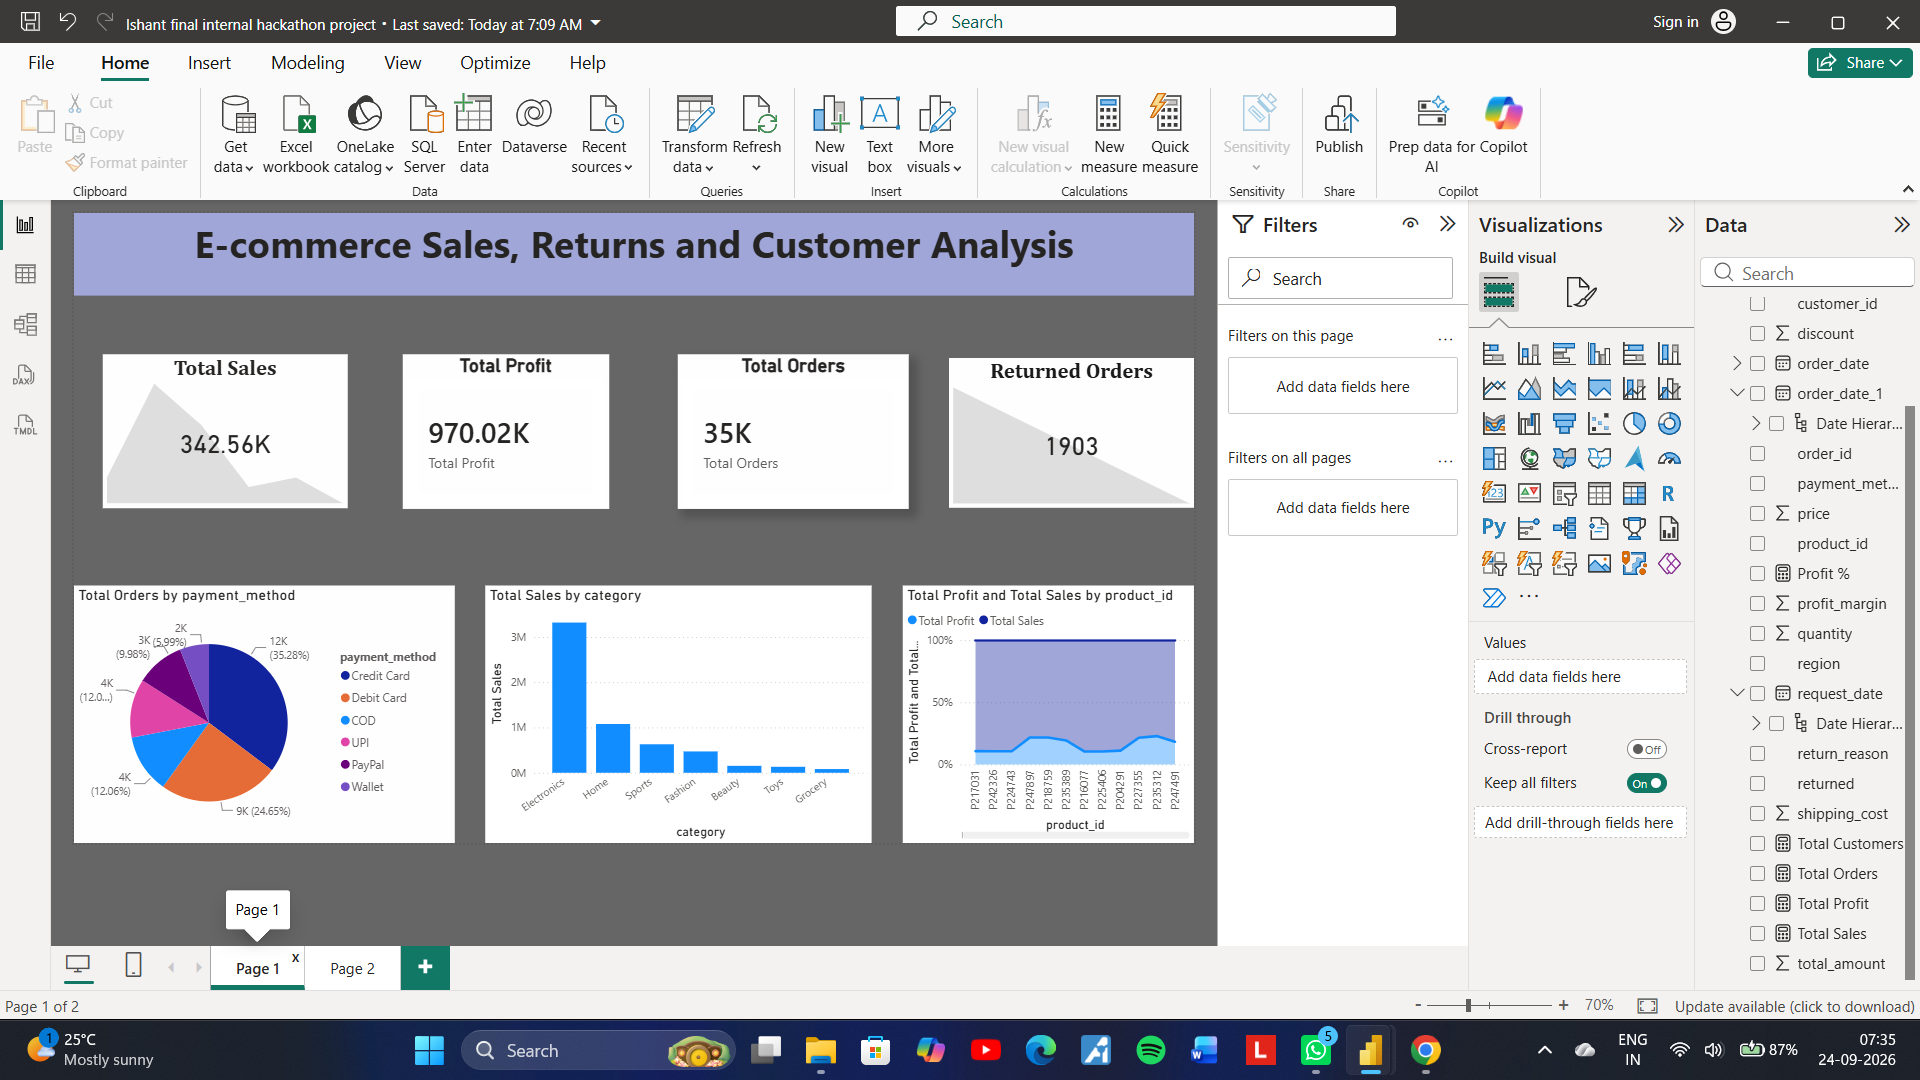

This screenshot's page, from the dashboard's own definition file:
{"tool":"powerbi","page":{"name":"Page 1","canvas":[1280,720],"ordinal":0},"visuals":[{"type":"kpi","title":"Total Sales","fields":{"Indicator":["Dataset.Total Sales"],"TrendLine":["Dataset.payment_method"]},"box":[32.9,161.9,279.9,175.6],"z":1},{"type":"kpi","title":"Returned Orders","fields":{"Indicator":["Dataset.Total Orders"],"TrendLine":["Dataset.returned"]},"box":[1000,165.7,280,171.4],"z":3},{"type":"pieChart","fields":{"Category":["Dataset.payment_method"],"Y":["Dataset.Total Orders"]},"box":[0,425.4,435,295],"z":5},{"type":"clusteredColumnChart","fields":{"Category":["Dataset.category"],"Y":["Dataset.Total Sales"]},"box":[469.3,425.4,441.9,295],"z":6},{"type":"hundredPercentStackedAreaChart","fields":{"Category":["Dataset.product_id"],"Y":["Dataset.Total Profit","Dataset.Total Sales"]},"box":[947.1,425.7,332.9,294.3],"z":7},{"type":"textbox","box":[0,0,1280.3,94.7],"z":8},{"type":"cardVisual","title":"Total Orders","fields":{"Data":["Dataset.Total Orders"]},"box":[690,161.4,264.3,177.1],"z":9},{"type":"cardVisual","title":"Total Profit","fields":{"Data":["Dataset.Total Profit"]},"box":[375.7,161.4,235.7,177.1],"z":10}]}

Visuals, with their boxes on the page's 1280x720 design canvas (x1, y1, x2, y2). These are canvas units, not pixel positions in the 1920x1080 screenshot, which may show the page scaled, cropped or inside an application window:
"Total Sales" kpi: rect(33, 162, 313, 338)
"Returned Orders" kpi: rect(1000, 166, 1280, 337)
pieChart - Dataset.payment_method x Dataset.Total Orders: rect(0, 425, 435, 720)
clusteredColumnChart - Dataset.category x Dataset.Total Sales: rect(469, 425, 911, 720)
hundredPercentStackedAreaChart - Dataset.product_id x Dataset.Total Profit: rect(947, 426, 1280, 720)
textbox: rect(0, 0, 1280, 95)
"Total Orders" cardVisual: rect(690, 161, 954, 338)
"Total Profit" cardVisual: rect(376, 161, 611, 338)
